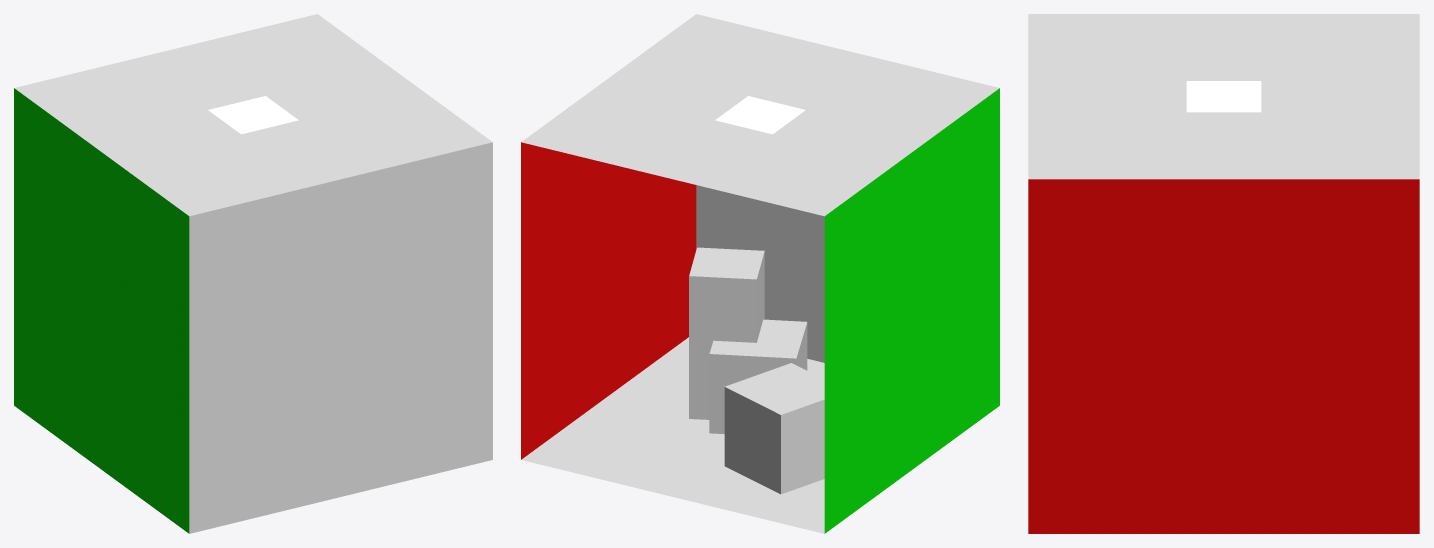
Rendered from diffuse.glb.
3 views of the same model, side by side, from view 1: azimuth 30°, elevation 25°; view 2: azimuth 150°, elevation 25°; view 3: azimuth 270°, elevation 25° (orthographic). The views are drawn at different scales.
Visible parts, largest first — view 1: Back, Right, Top Big, Top Big Light; view 2: Right, Top Big, Left, Bottom, Back, Cube Small, Cube Tall, Cube Small Intersect, Top Big Light; view 3: Left, Top Big, Top Big Light.
Boxes of the visible parts, bbox=[...] form: Back: bbox=[189, 142, 492, 533]; Right: bbox=[14, 88, 189, 533]; Top Big: bbox=[14, 14, 492, 216]; Top Big Light: bbox=[208, 96, 298, 134]; Right: bbox=[824, 88, 999, 533]; Top Big: bbox=[521, 14, 999, 216]; Left: bbox=[521, 142, 696, 459]; Bottom: bbox=[521, 337, 824, 533]; Back: bbox=[696, 185, 824, 362]; Cube Small: bbox=[724, 363, 824, 494]; Cube Tall: bbox=[689, 247, 764, 419]; Cube Small Intersect: bbox=[709, 319, 807, 434]; Top Big Light: bbox=[715, 96, 805, 134]; Left: bbox=[1028, 179, 1419, 533]; Top Big: bbox=[1028, 14, 1419, 179]; Top Big Light: bbox=[1186, 81, 1261, 112].
Size of the model in its own units: 2 by 2.01 by 2.
